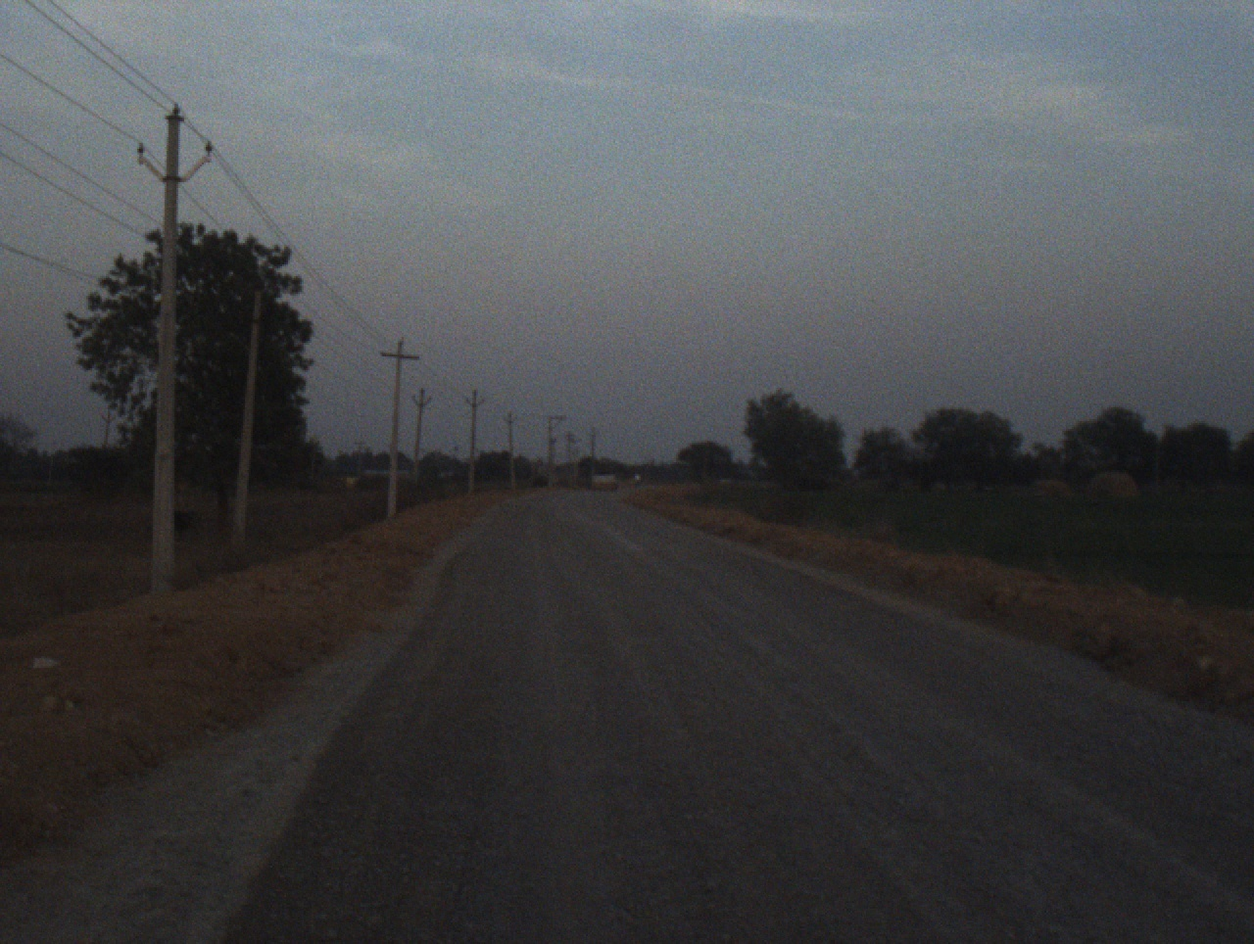vehicle fallback: (592, 461, 621, 496)
